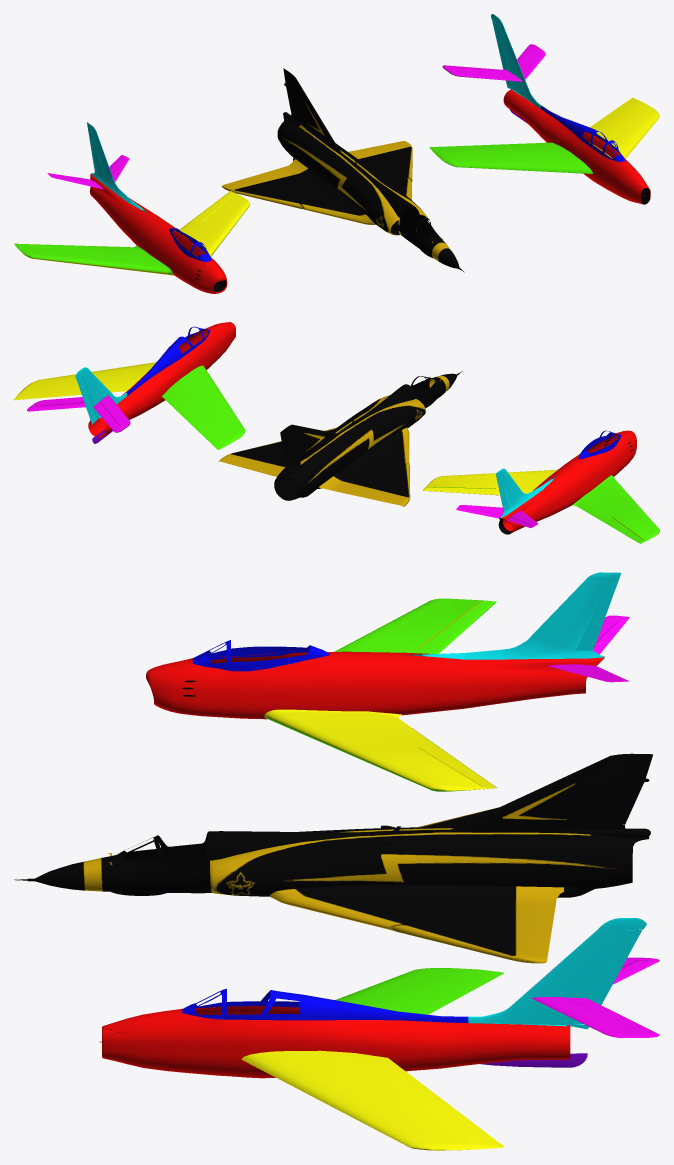
The model's file is canvas.fbx.
3 renders of one model, top to bottom at view 1: azimuth 30°, elevation 25°; view 2: azimuth 150°, elevation 25°; view 3: azimuth 270°, elevation 25°, orthographic. The views are drawn at different scales.
Parts seen in each view (by area): view 1: mirage, Cylinder.001, FUSE; view 2: mirage, Cylinder.001, FUSE; view 3: mirage, Cylinder.001, FUSE.
Boxes of the visible parts, left/top/right/bottom form: mirage: left=222, top=68, right=464, bottom=272; Cylinder.001: left=429, top=14, right=659, bottom=204; FUSE: left=14, top=122, right=249, bottom=293; mirage: left=218, top=371, right=462, bottom=506; Cylinder.001: left=14, top=322, right=245, bottom=449; FUSE: left=423, top=430, right=659, bottom=543; mirage: left=14, top=753, right=652, bottom=963; Cylinder.001: left=99, top=918, right=659, bottom=1150; FUSE: left=146, top=572, right=629, bottom=791.
Size of the model in its own units: 3057 by 419 by 1547.
Materials: 3 (3 with a texture image).
